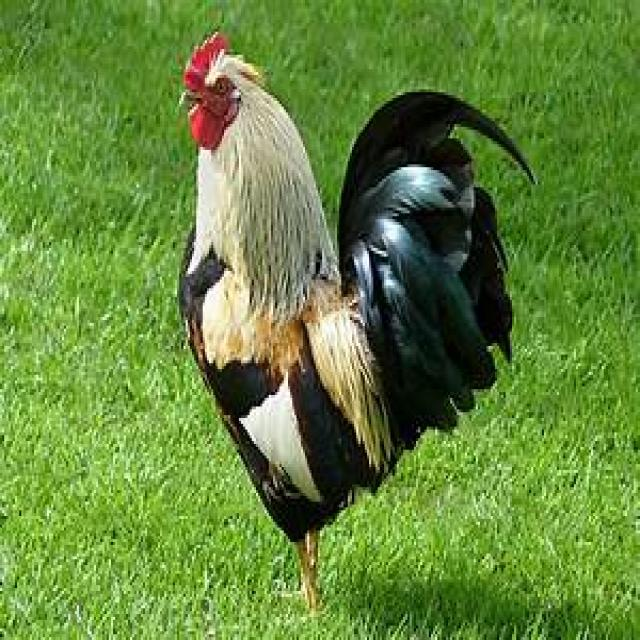hen: (179, 32, 535, 614)
